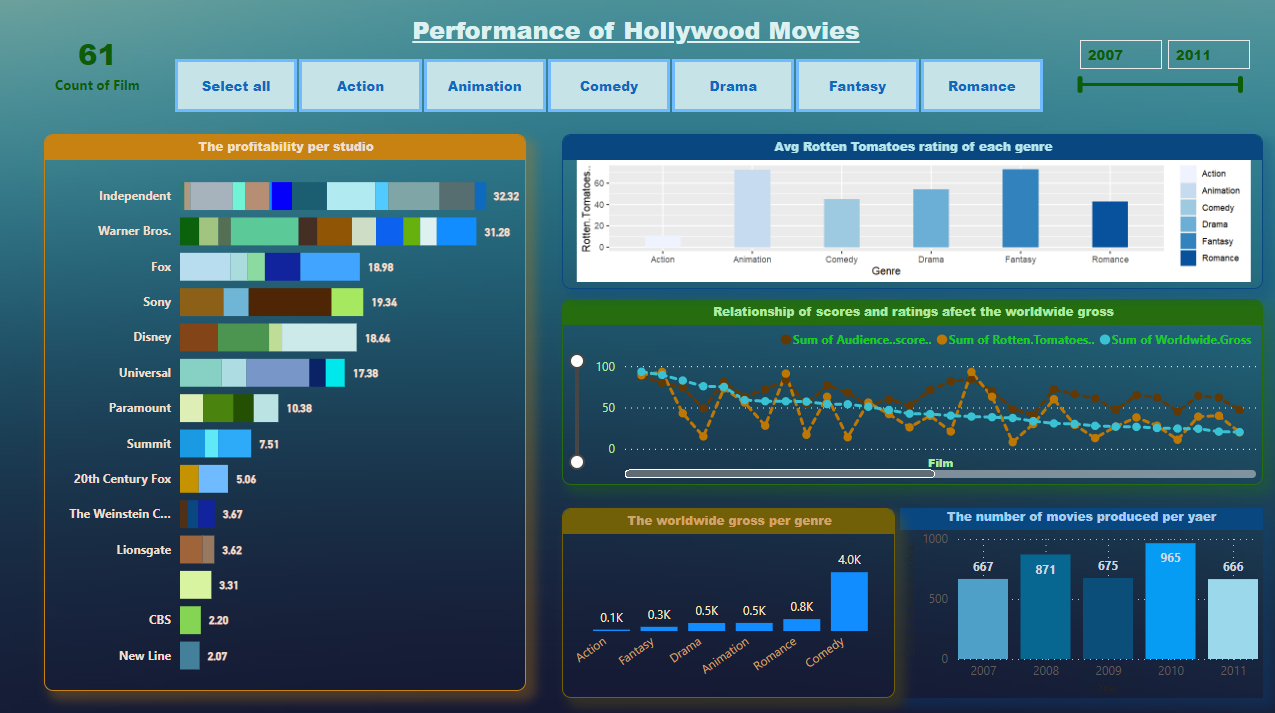

This screenshot's page, from the dashboard's own definition file:
{"tool":"powerbi","page":{"name":"Page 1","canvas":[1280,720],"ordinal":0},"visuals":[{"type":"card","fields":{"Values":["CountNonNull(clean_df.Film)"]},"box":[24,35,155,65],"z":0},{"type":"slicer","title":"Type of Genre","fields":{"Values":["clean_df.Genre"]},"box":[153,57,918,67],"z":1000},{"type":"slicer","fields":{"Values":["clean_df.Year"]},"box":[1071,35,189,65],"z":2000},{"type":"columnChart","title":"The number of movies produced per yaer","fields":{"Category":["clean_df.Year"],"Y":["Sum(clean_df.Audience..score..)"]},"box":[903.6,513.1,363.6,189.9],"z":3000},{"type":"barChart","title":"The profitability per studio","fields":{"Category":["clean_df.Lead.Studio"],"Y":["Sum(clean_df.Profitability)"],"Series":["clean_df.Film"]},"box":[48,139,482,557],"z":4000},{"type":"columnChart","title":"The worldwide gross per genre","fields":{"Category":["clean_df.Genre"],"Y":["Sum(clean_df.Worldwide.Gross)"]},"box":[566,513,333,190],"z":5000},{"type":"lineChart","title":"Relationship of scores and ratings afect the worldwide gross","fields":{"Category":["clean_df.Film"],"Y":["Sum(clean_df.Audience..score..)","Sum(clean_df.Rotten.Tomatoes..)"],"Y2":["Sum(clean_df.Worldwide.Gross)"]},"box":[566,303.6,701.2,186.3],"z":6000},{"type":"textbox","box":[389,13,502,44],"z":7000},{"type":"scriptVisual","title":"Avg Rotten Tomatoes rating of each genre","fields":{"Values":["clean_df.Genre","clean_df.Rotten.Tomatoes.."]},"box":[565.7,139.3,701.3,154.3],"z":8000}]}

Visuals, with their boxes in screenshot pixels (x1, y1, x2, y2), scaled from the page's 1280x720 canvas onto the 1275x713 screenshot:
card - CountNonNull(clean_df.Film): detection(24, 35, 178, 99)
"Type of Genre" slicer: detection(152, 56, 1067, 123)
slicer - clean_df.Year: detection(1067, 35, 1255, 99)
"The number of movies produced per yaer" columnChart: detection(900, 508, 1262, 696)
"The profitability per studio" barChart: detection(48, 138, 528, 689)
"The worldwide gross per genre" columnChart: detection(564, 508, 895, 696)
"Relationship of scores and ratings afect the worldwide gross" lineChart: detection(564, 301, 1262, 485)
textbox: detection(387, 13, 888, 56)
"Avg Rotten Tomatoes rating of each genre" scriptVisual: detection(563, 138, 1262, 291)
